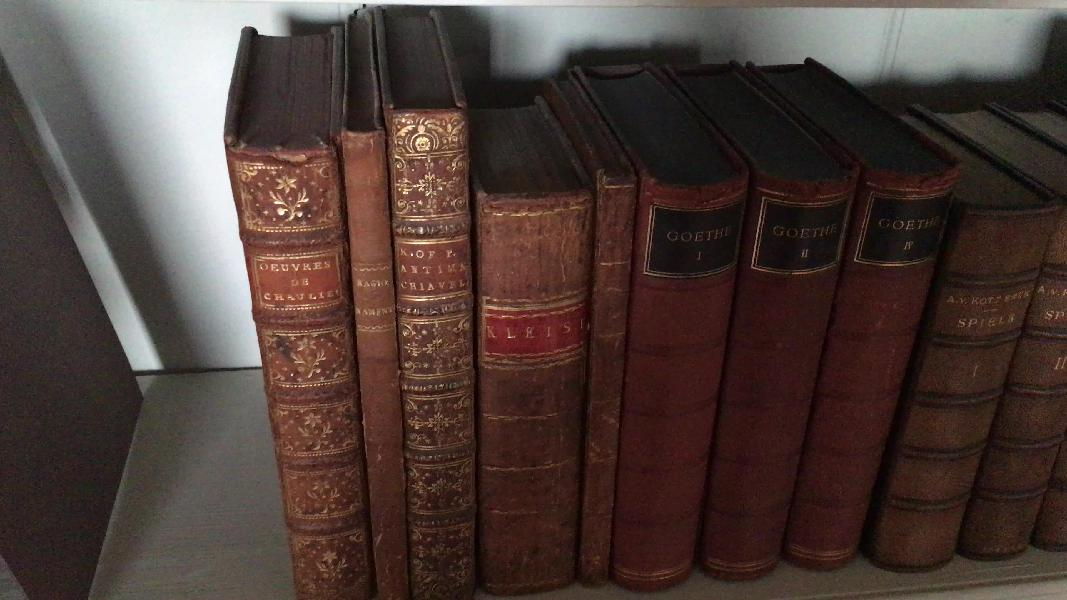Aa6-10: (566, 134, 639, 600)
Aa6-11_13: (608, 172, 937, 579)
Aa6-14_17: (876, 206, 1067, 559)
Aa6-6: (229, 143, 374, 600)
Aa6-7: (336, 137, 427, 598)
Aa6-8: (385, 107, 474, 600)
Aa6-9: (477, 194, 587, 582)
